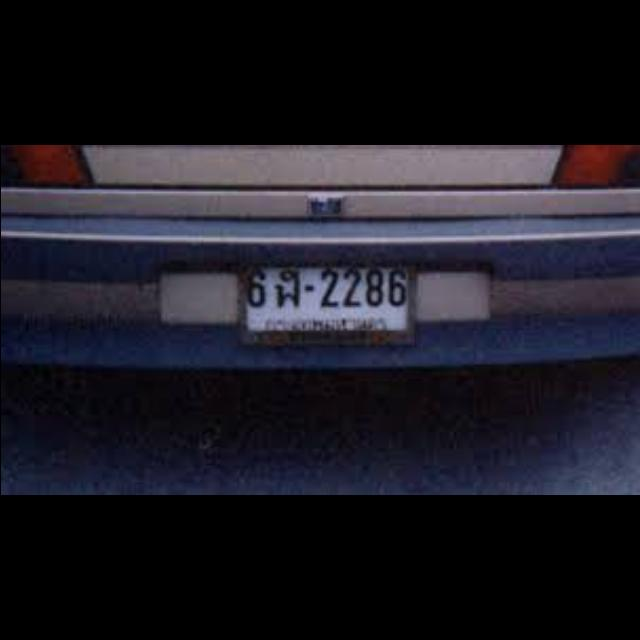licenseplate: (237, 262, 416, 346)
